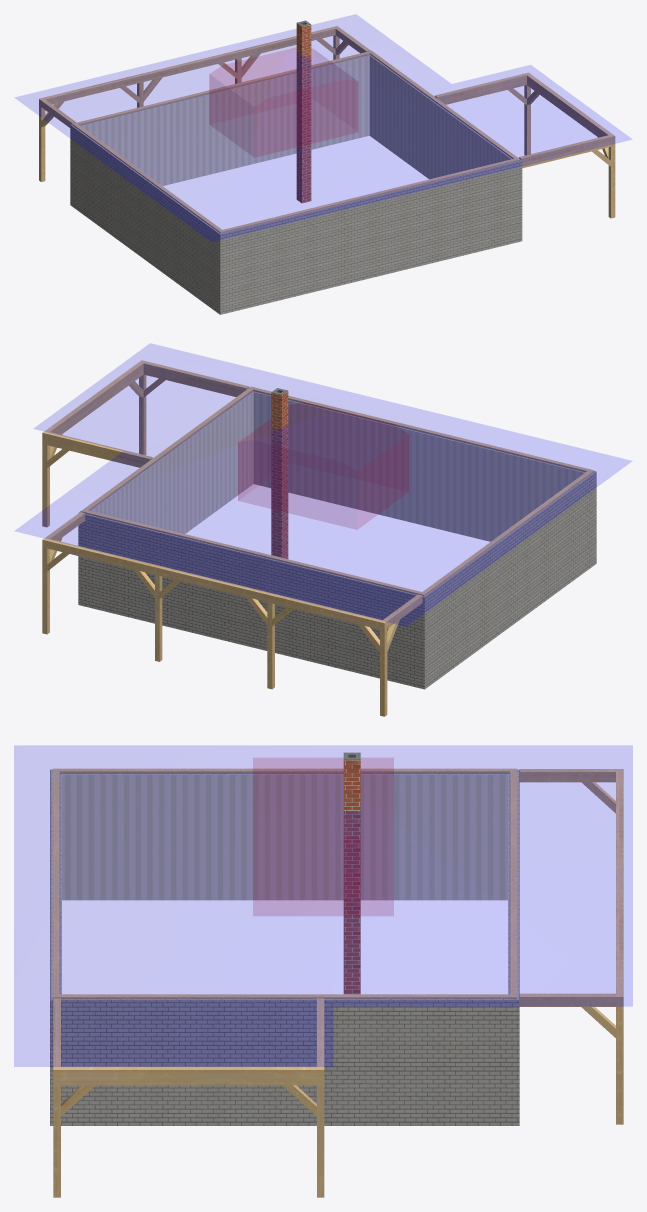
3 renders of one model, top to bottom at view 1: azimuth 30°, elevation 25°; view 2: azimuth 150°, elevation 25°; view 3: azimuth 270°, elevation 25°, orthographic. The views are drawn at different scales.
Parts seen in each view (by area): view 1: skfb_offset; view 2: skfb_offset; view 3: skfb_offset.
Boxes of the visible parts, bbox=[...] form: skfb_offset: bbox=[15, 14, 631, 314]; skfb_offset: bbox=[15, 343, 631, 716]; skfb_offset: bbox=[14, 746, 632, 1197].
Bounding box in the file's own units: 16205 × 6500 × 13180.
Materials: 9 (7 with a texture image).
